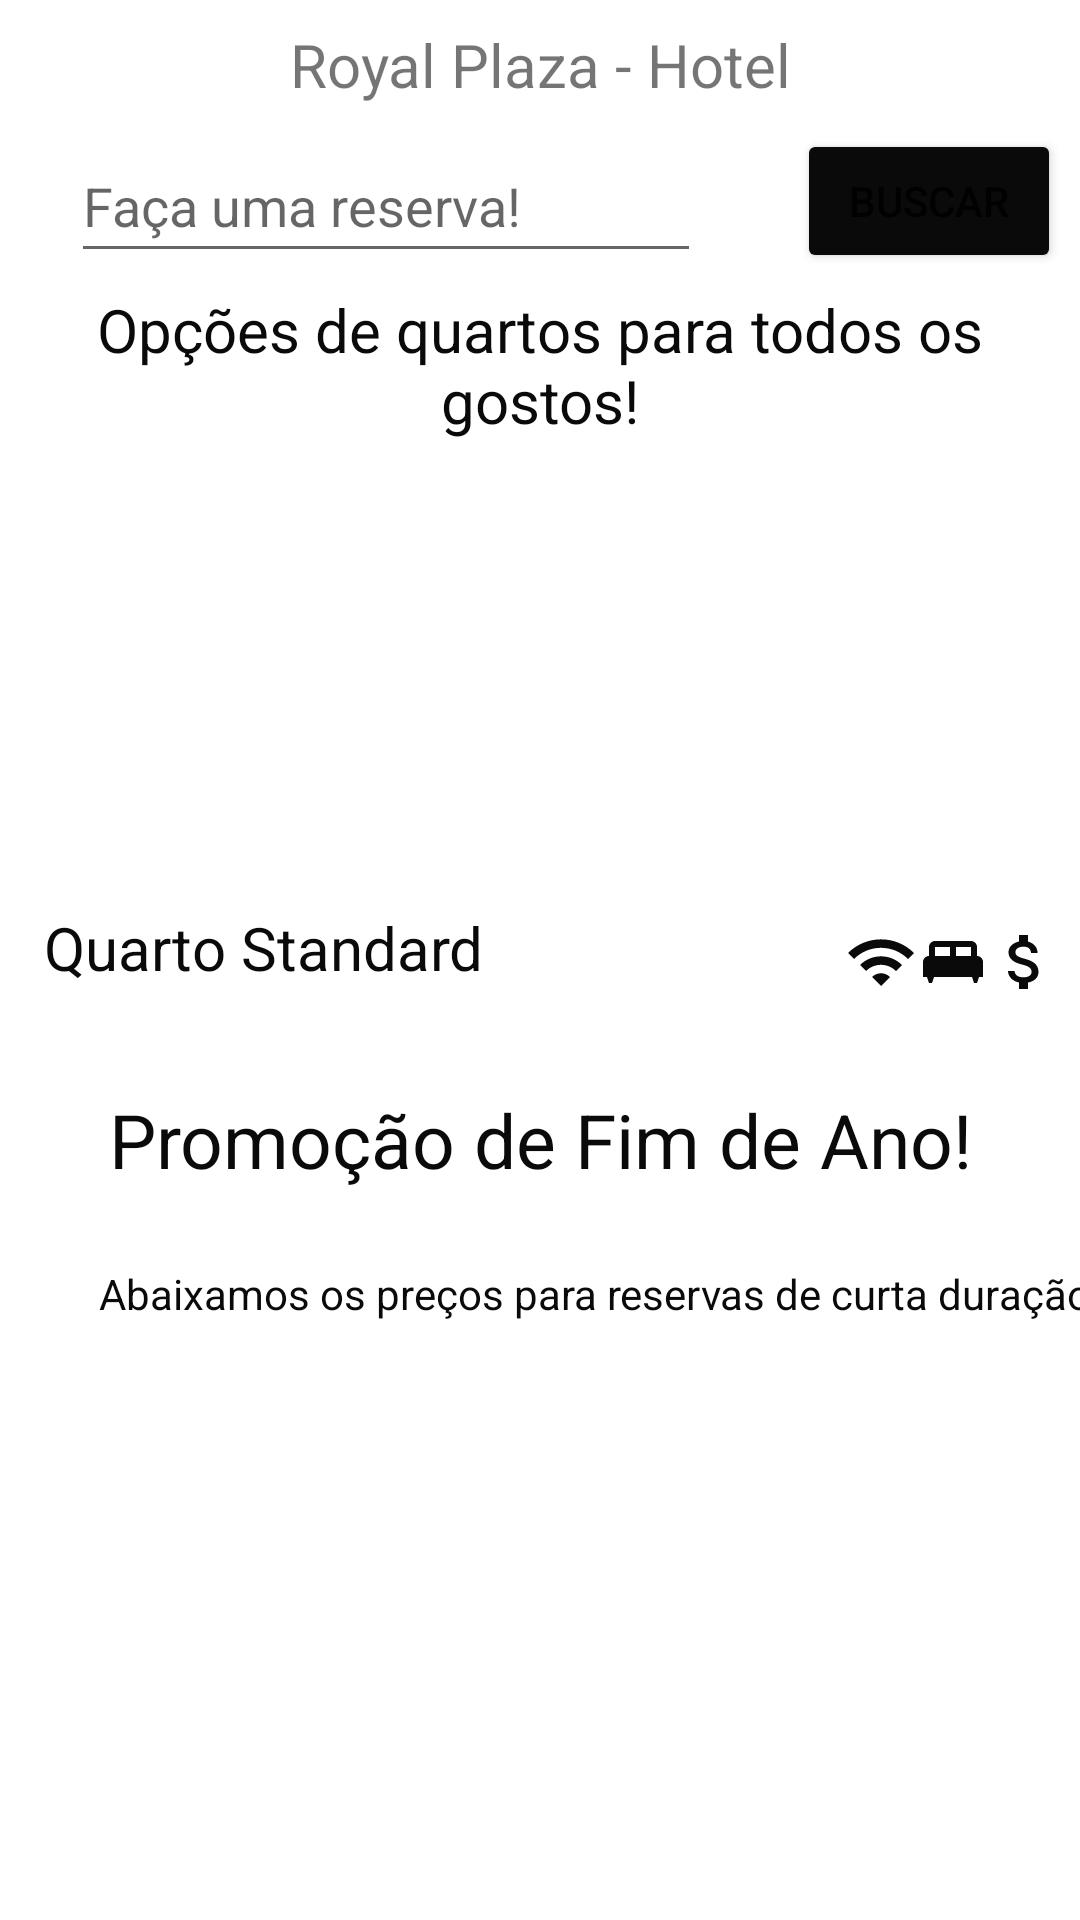

Icon bounding boxes for this 1080w x 1920h phone screenshot, format bbox=(x1, y1, x2, y2):
attach money: bbox=(1008, 935, 1039, 989)
king bed: bbox=(923, 941, 983, 983)
wifi: bbox=(848, 939, 914, 986)
